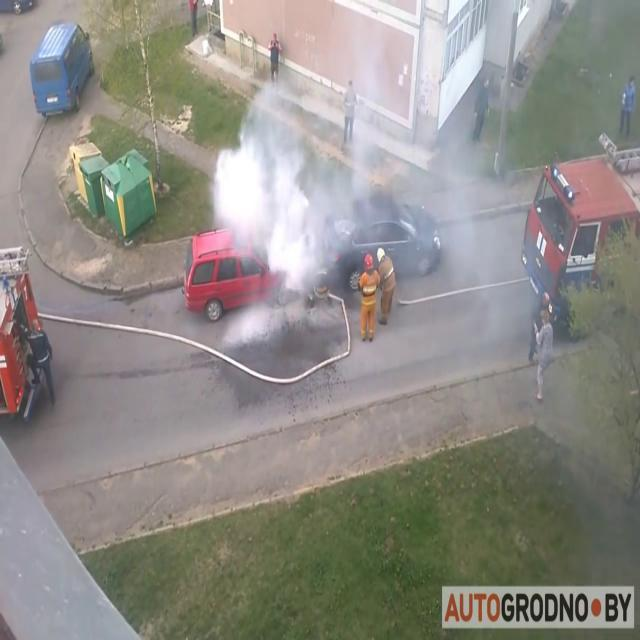Smoke: (212, 11, 526, 304)
